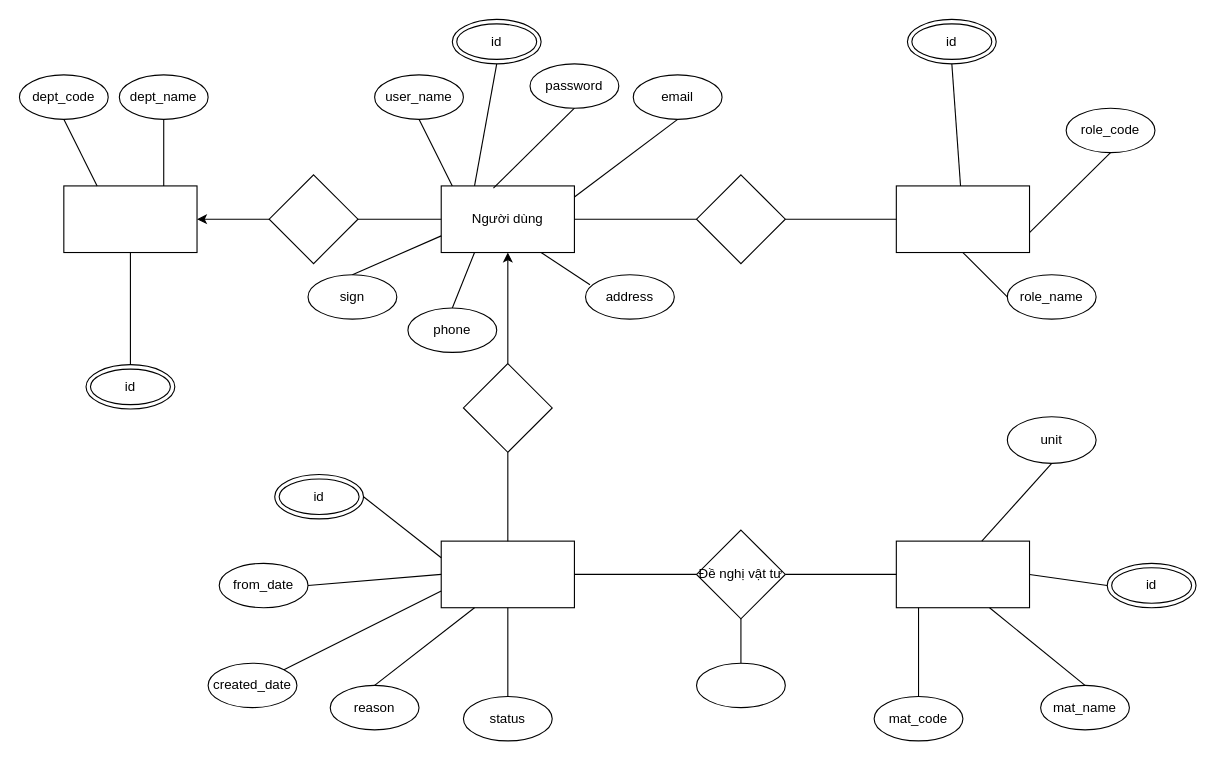
This 1215x760 diagram has some shape labels left out. Here are the shapes that lost their labels. From the top down, the centre of each, then its label:
At point (130, 219): "Phòng ban".
At point (313, 219): "Thuộc".
At point (740, 219): "Người dùng_quyền".
At point (962, 219): "Quyền".
At point (507, 407): "Làm".
At point (507, 574): "Đề nghị".
At point (962, 574): "Vật tư".
At point (740, 685): "quantity".
